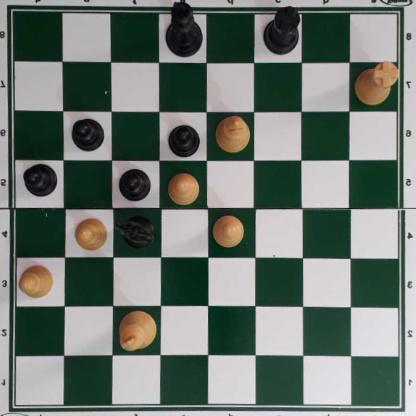black-king: (163, 0, 204, 60)
black-knight: (118, 214, 154, 249)
black-pawn: (24, 163, 59, 197), (71, 116, 105, 151), (168, 121, 201, 156), (120, 166, 151, 201)
black-rook: (262, 8, 303, 52)
white-bishop: (216, 114, 249, 153)
white-king: (117, 308, 158, 351)
white-pawn: (19, 262, 56, 299), (167, 171, 202, 204), (74, 217, 108, 250), (213, 214, 246, 247)
white-rook: (355, 63, 400, 103)
